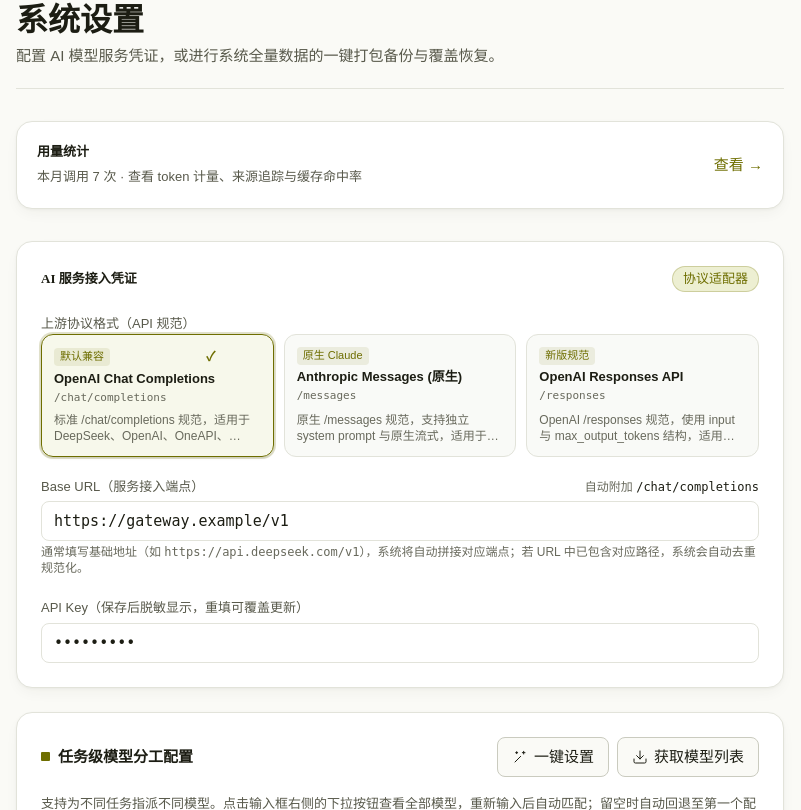
Scenario: 设置页配置与连接行为 › 嗅探本机代理 失败后保留输入并恢复操作按钮
This screenshot has width=801, height=810.
Type "keep-unsaved-key" into the password field with placeholder "sk-…".
click(400, 643); type("keep-unsaved-key")  # box [41,623,759,663]
(page scrolled)
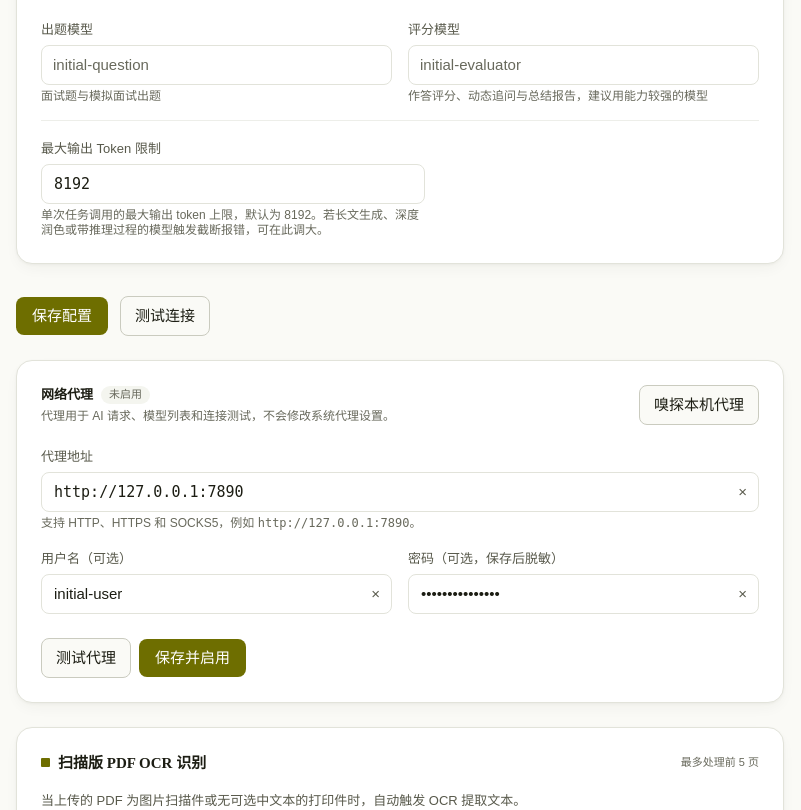
Click the button "嗅探本机代理".
click(699, 405)  # box [639,385,759,425]
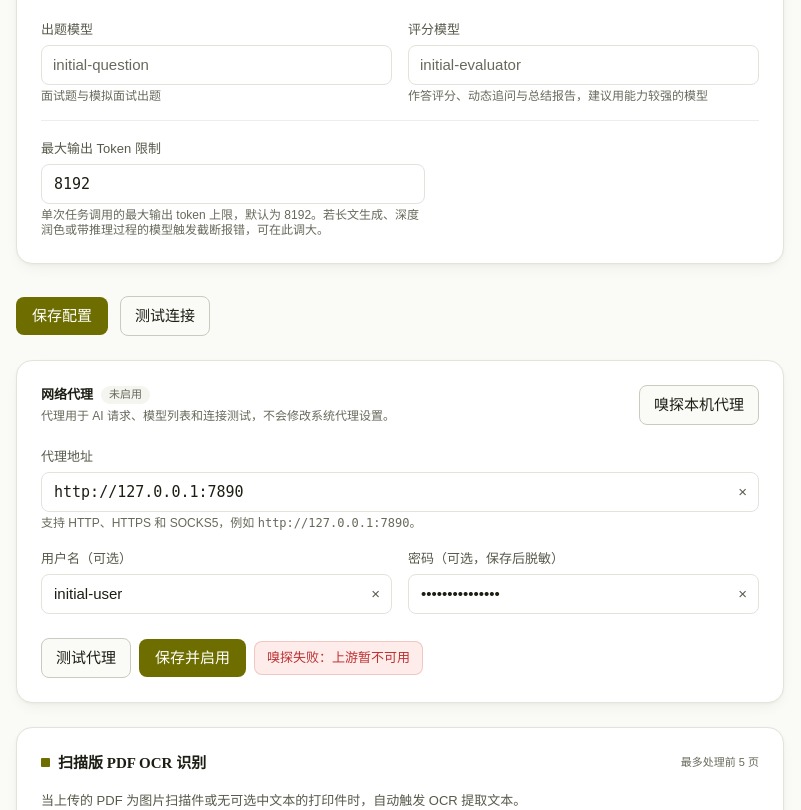
Check: the text "嗅探失败：上游暂不可用" is shown, box [254,641,423,675]
